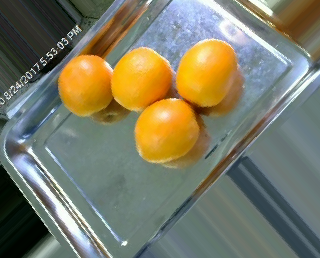Orange: (133, 98, 201, 164), (175, 38, 237, 107), (111, 47, 173, 112), (58, 53, 112, 116)
